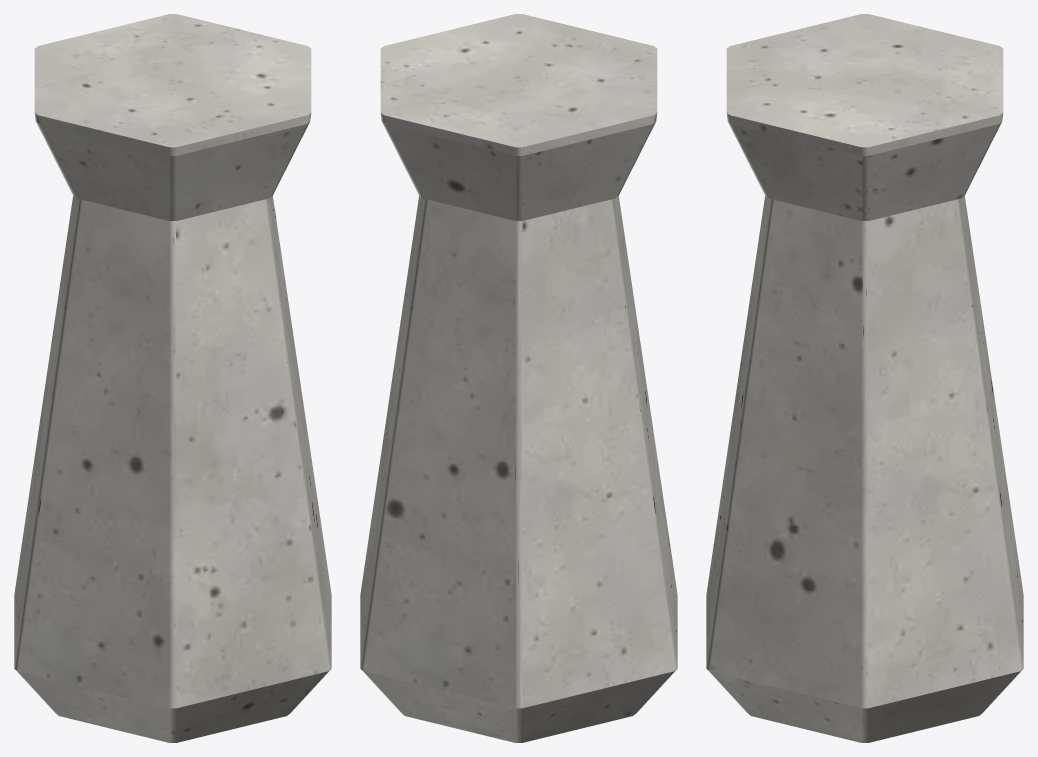
File: hexalith_white_rook.glb
3 renders of one model, left to right at view 1: azimuth 30°, elevation 25°; view 2: azimuth 150°, elevation 25°; view 3: azimuth 270°, elevation 25°, orthographic.
Parts seen in each view (by area): view 1: HEXALITH_white_rook; view 2: HEXALITH_white_rook; view 3: HEXALITH_white_rook.
Part boxes in pixels (x1,y1,x2,y2): HEXALITH_white_rook: [14, 14, 331, 742]; HEXALITH_white_rook: [360, 14, 677, 742]; HEXALITH_white_rook: [706, 14, 1023, 742].
Size of the model in its own units: 0.0307 by 0.0566 by 0.0268.
Materials: 1 (1 with a texture image).
